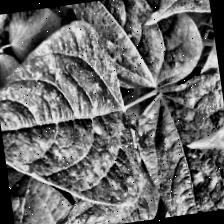Bean Rust: (0, 19, 145, 223), (61, 0, 211, 101), (128, 72, 224, 220)
